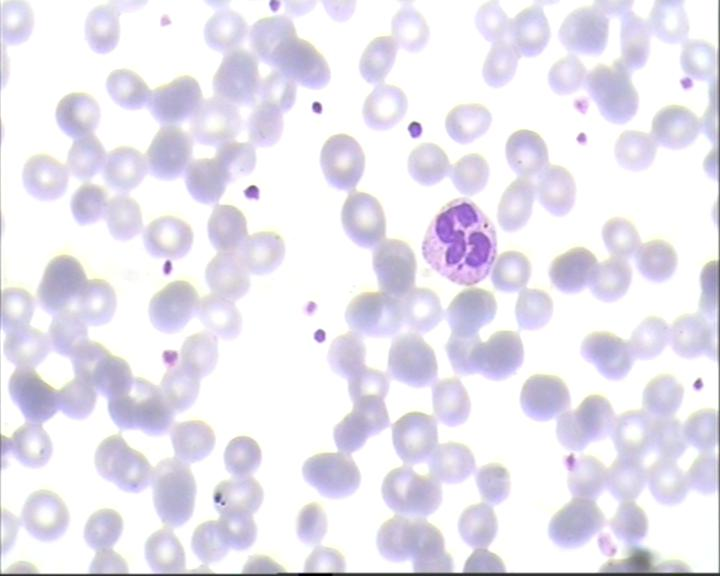neut: (416, 189, 500, 286)
